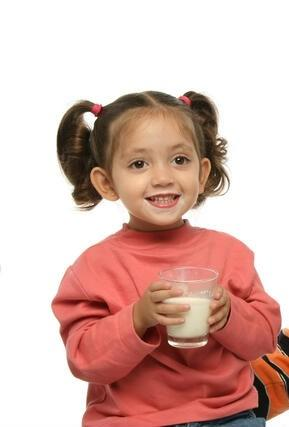Healthy: (88, 95, 229, 244)
